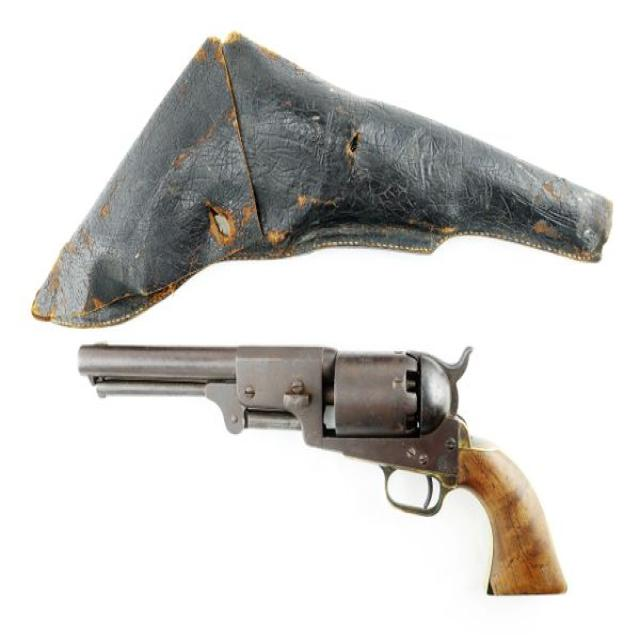HandGun: (78, 346, 569, 596)
